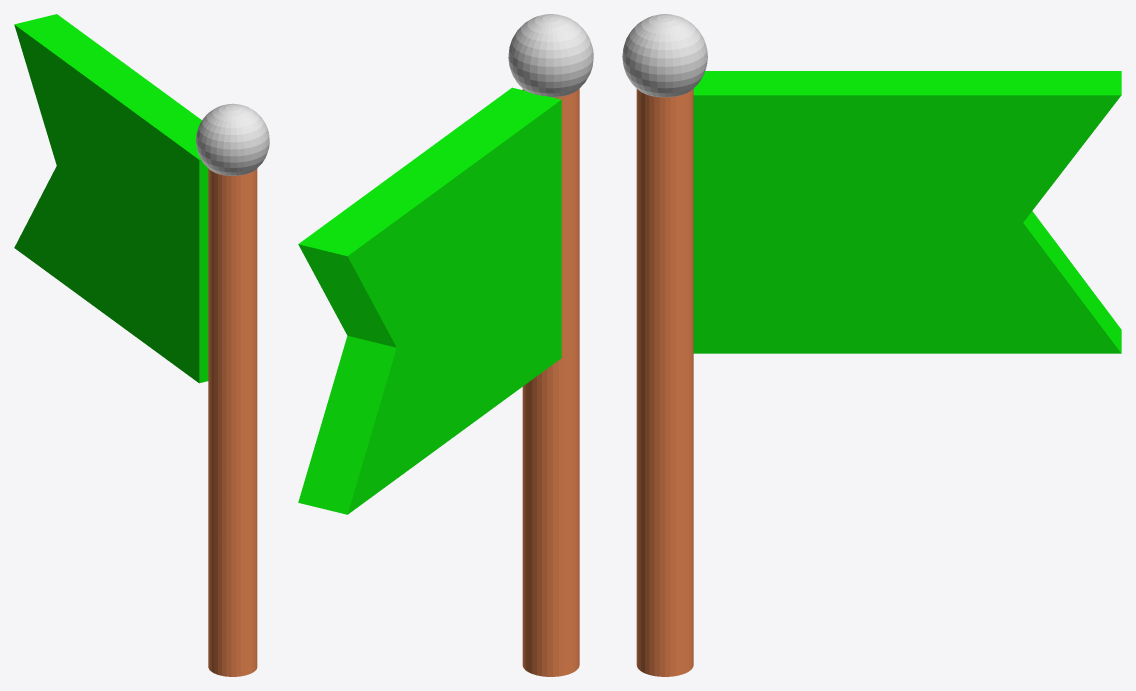
File: Point.fbx
3 views of the same model, side by side, from view 1: azimuth 30°, elevation 25°; view 2: azimuth 150°, elevation 25°; view 3: azimuth 270°, elevation 25° (orthographic). The views are drawn at different scales.
Parts seen in each view (by area): view 1: Cube.001, Cylinder, Sphere; view 2: Cube.001, Cylinder, Sphere; view 3: Cube.001, Cylinder, Sphere.
Boxes of the visible parts, <box> form: Cube.001: <box>14,14,208,383</box>; Cylinder: <box>208,168,257,676</box>; Sphere: <box>196,103,269,175</box>; Cube.001: <box>298,87,561,514</box>; Cylinder: <box>522,89,579,676</box>; Sphere: <box>508,14,593,97</box>; Cube.001: <box>693,71,1121,353</box>; Cylinder: <box>636,89,693,676</box>; Sphere: <box>622,14,707,97</box>.
Bounding box in the file's own units: 60 × 500 × 350.
